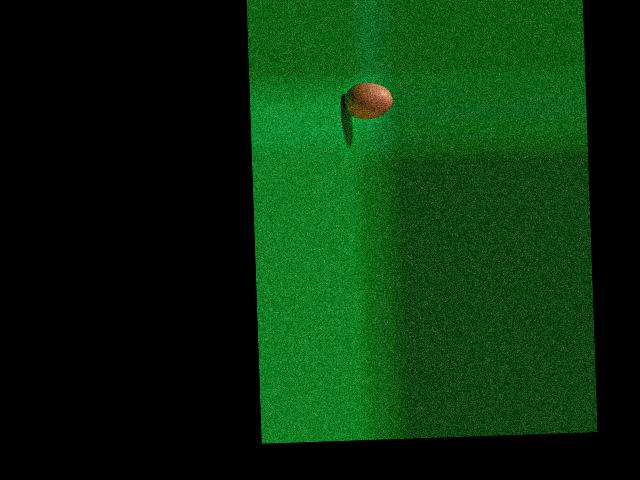egg: (342, 82, 392, 120)
